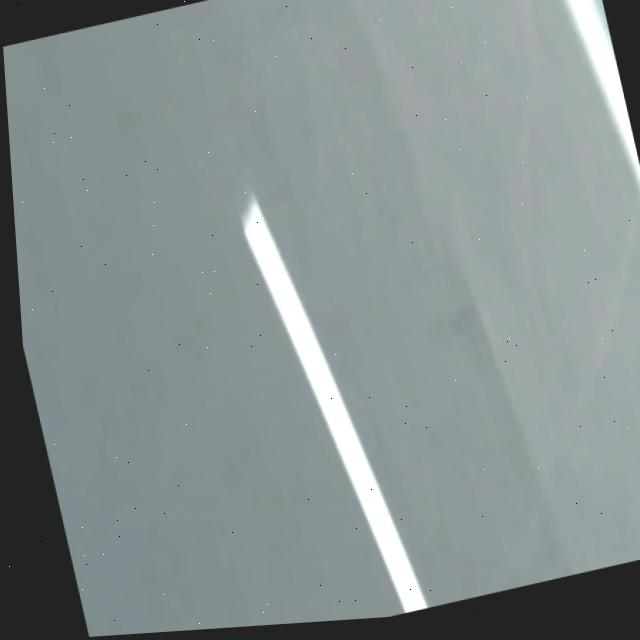center: (244, 198, 429, 613)
left: (566, 0, 640, 186)
